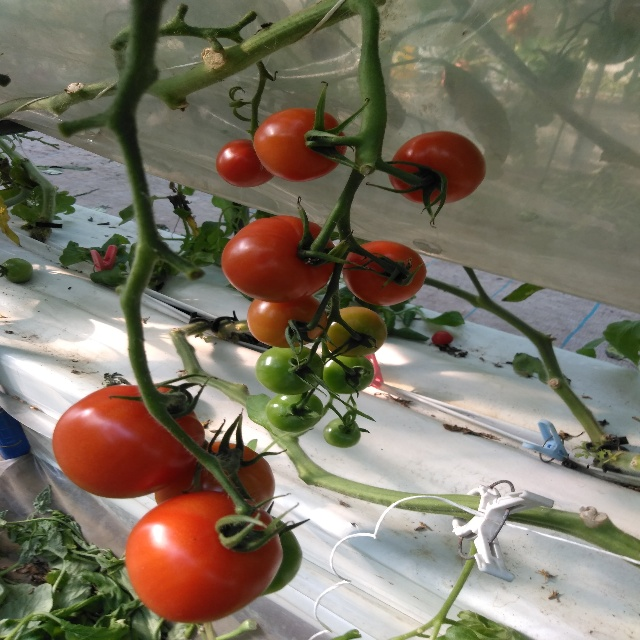l_fully_ripened: (125, 490, 283, 624), (51, 383, 205, 499), (220, 215, 336, 303), (154, 442, 276, 510), (388, 130, 486, 205), (254, 108, 347, 182), (342, 240, 427, 306), (247, 296, 328, 348), (215, 139, 275, 187)
l_green: (257, 514, 303, 597), (255, 345, 324, 395), (266, 392, 324, 432), (322, 354, 375, 395), (322, 417, 361, 448)
l_half_ripened: (324, 306, 388, 357)
